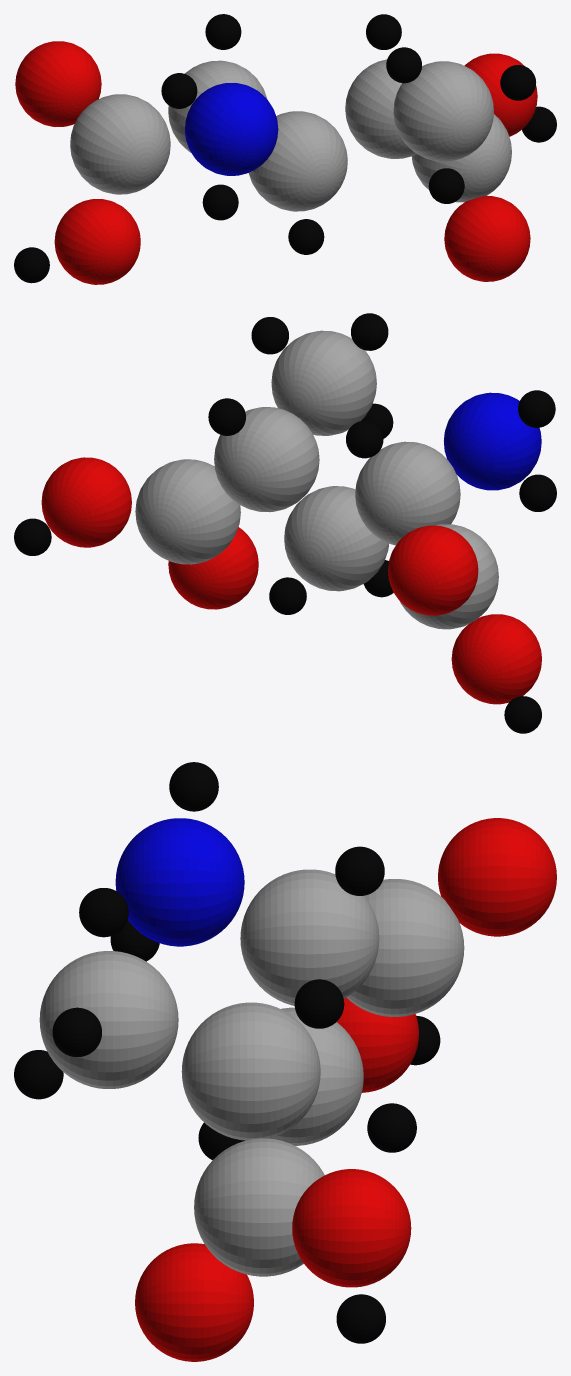
File: Glutamate.glb
3 views of the same model, one above another, from view 1: azimuth 30°, elevation 25°; view 2: azimuth 150°, elevation 25°; view 3: azimuth 270°, elevation 25° (orthographic). The views are drawn at different scales.
Parts seen in each view (by area): view 1: world; view 2: world; view 3: world.
Boxes of the visible parts, left/top/right/bottom form: world: left=14, top=14, right=556, bottom=284; world: left=14, top=313, right=556, bottom=733; world: left=14, top=762, right=556, bottom=1361.
Size of the model in its own units: 8.33 by 4.31 by 5.47.
